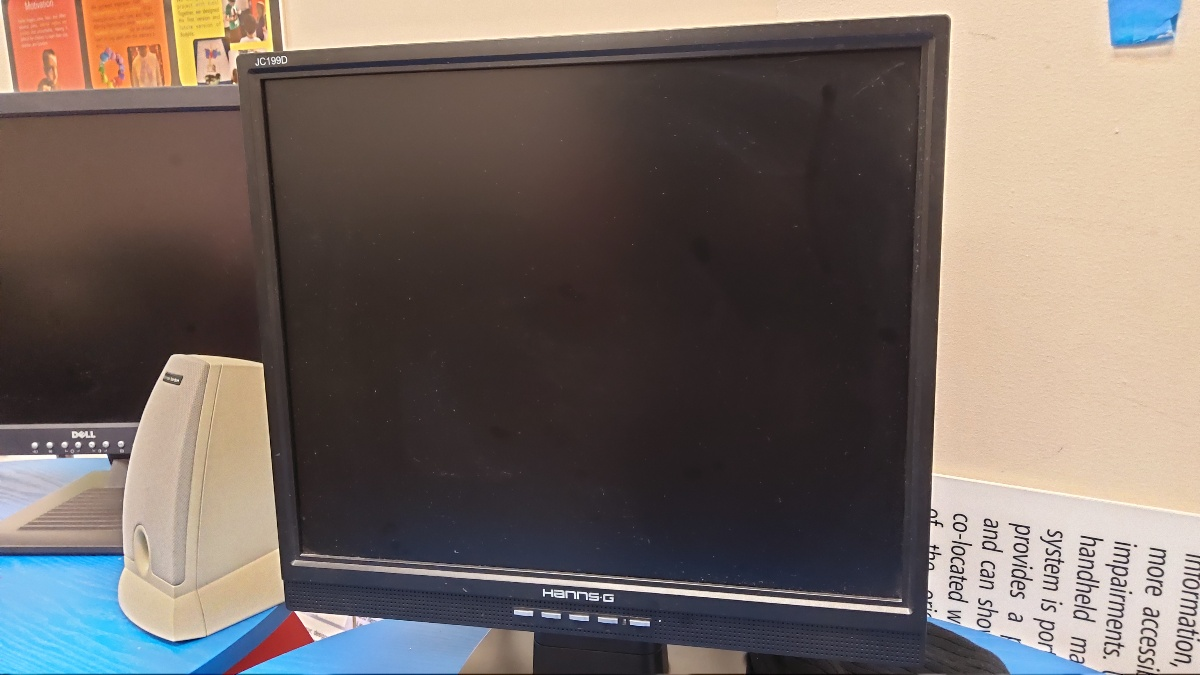monitor: (227, 11, 958, 674)
